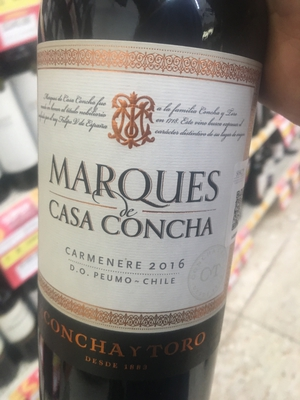marques de casa concha carmenere: (33, 14, 261, 396)
